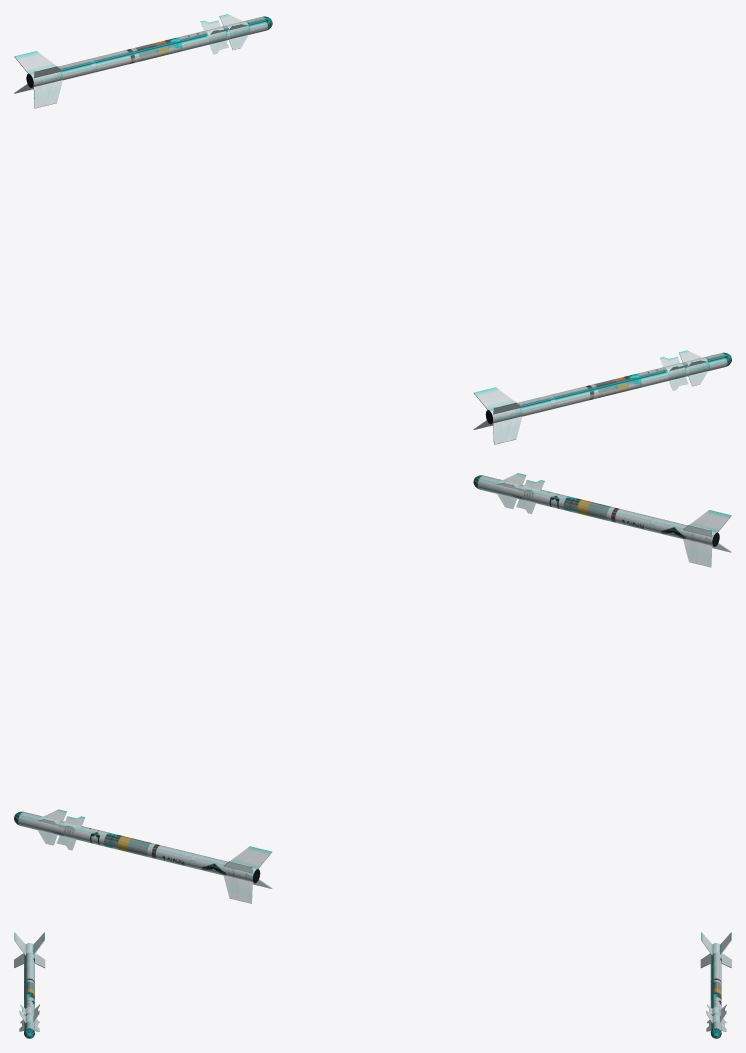
The model's file is rafaler550110.glb.
3 renders of one model, top to bottom at view 1: azimuth 30°, elevation 25°; view 2: azimuth 150°, elevation 25°; view 3: azimuth 270°, elevation 25°, orthographic. The views are drawn at different scales.
Parts seen in each view (by area): view 1: 立方体.037, 立方体.010; view 2: 立方体.010, 立方体.037; view 3: 立方体.010, 立方体.037.
Part boxes in pixels (left/top/right/bottom): 立方体.037: left=473, top=350, right=731, bottom=444; 立方体.010: left=14, top=14, right=272, bottom=108; 立方体.010: left=14, top=809, right=272, bottom=903; 立方体.037: left=473, top=473, right=731, bottom=567; 立方体.010: left=700, top=932, right=731, bottom=1038; 立方体.037: left=14, top=932, right=45, bottom=1038.
Size of the model in its own units: 3.19 by 0.463 by 10.69.
2 materials, 2 textured.
